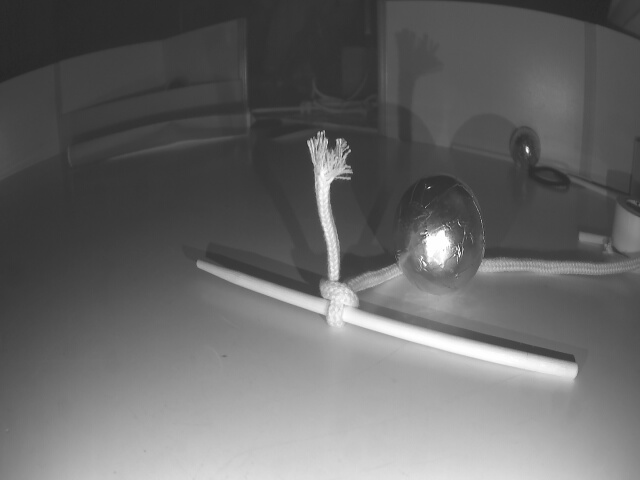Live: (395, 177, 486, 291), (511, 122, 540, 167)
